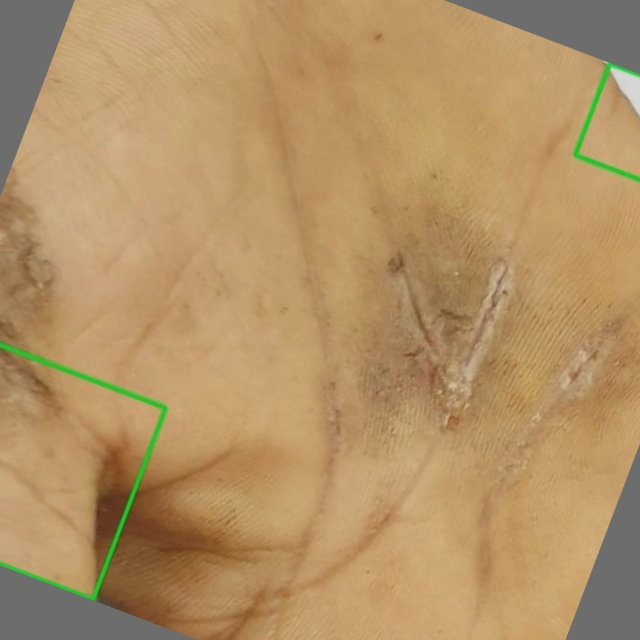Contact Dermatitis: (0, 345, 165, 599)
